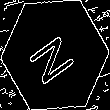N_NE: (27, 24, 83, 86)
